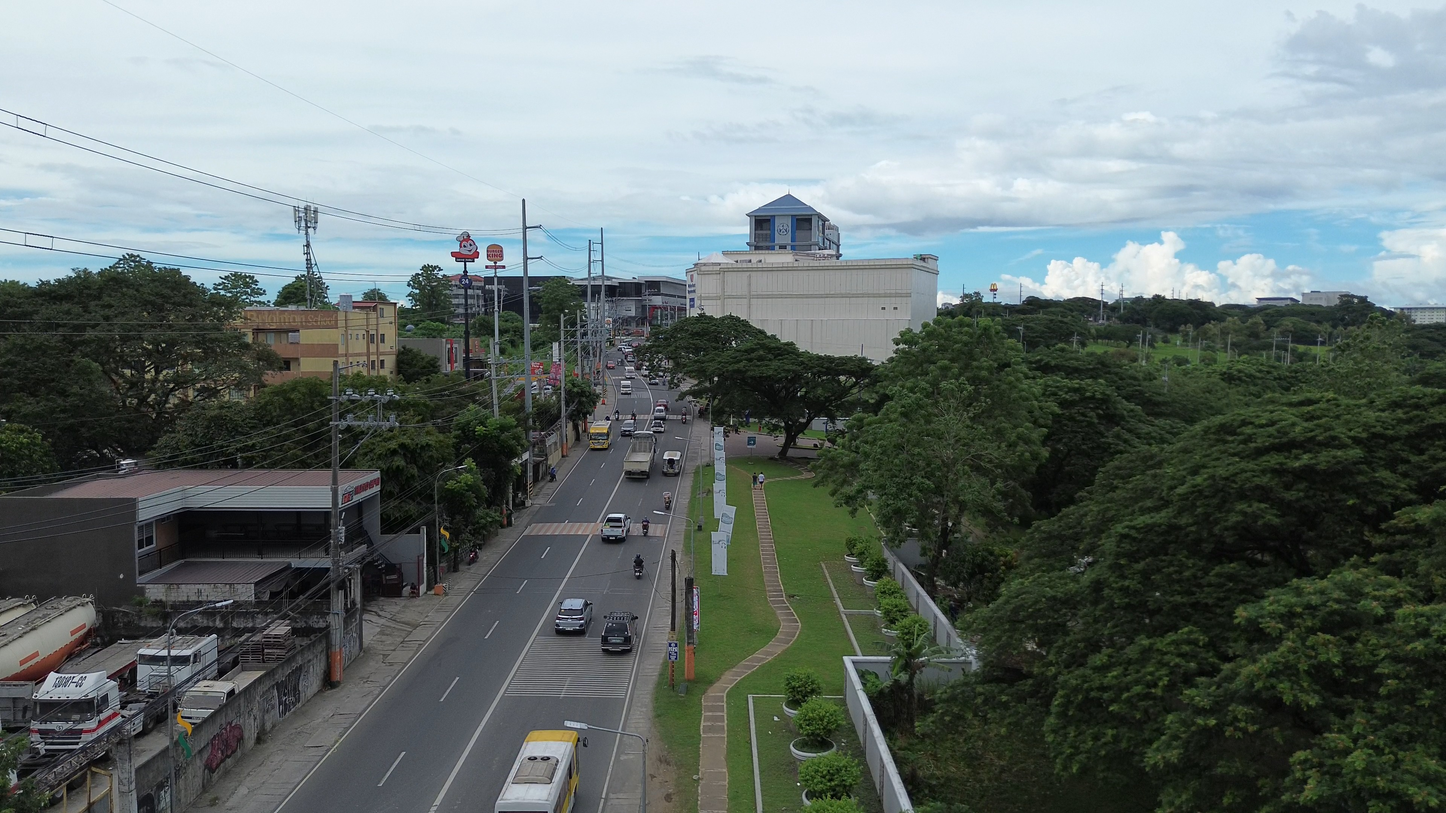bus: (494, 730, 579, 813), (588, 421, 612, 449)
car: (620, 420, 635, 436), (648, 376, 661, 386)
motorcycle: (633, 563, 644, 579), (467, 549, 478, 565), (642, 519, 650, 535)
vehicle: (0, 597, 96, 682), (30, 672, 122, 752), (137, 635, 217, 694), (180, 680, 237, 724), (623, 434, 657, 478), (601, 612, 638, 651), (555, 598, 593, 634), (599, 513, 631, 542), (661, 451, 682, 476), (619, 419, 635, 437), (650, 418, 666, 434), (618, 379, 633, 396), (653, 405, 667, 420), (641, 518, 650, 537), (624, 365, 636, 379), (648, 376, 662, 386), (606, 361, 615, 369)
